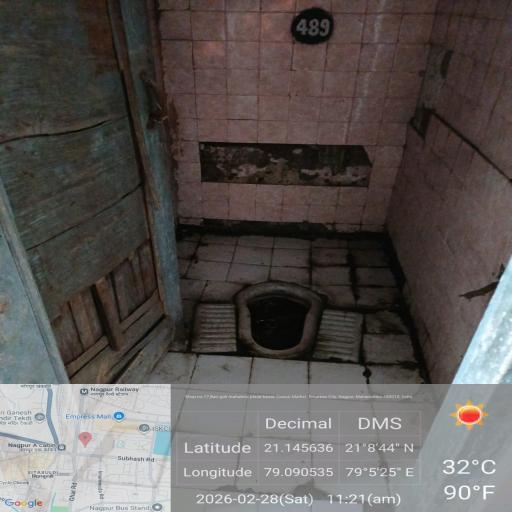dirty_floor: (87, 221, 461, 512), (122, 43, 443, 193)
dirty_indian: (176, 267, 387, 383)
